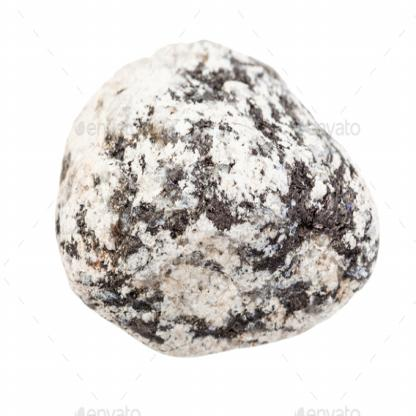Igneous_Diorite: (45, 34, 383, 358)
